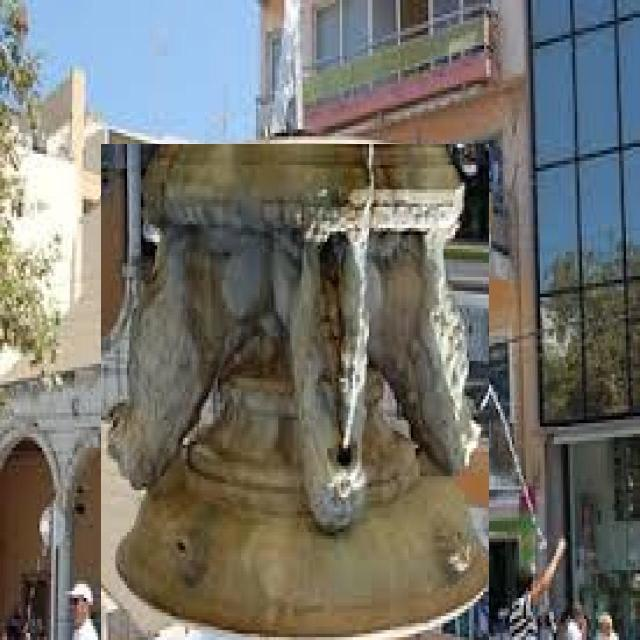Liontaria: (103, 145, 491, 640)
